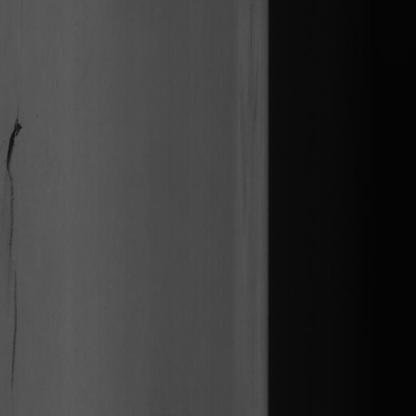inclusion: (1, 110, 27, 371)
